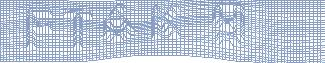6: (101, 3, 134, 43)
F: (24, 8, 54, 53)
K: (150, 3, 182, 41)
T: (62, 8, 93, 53)
g: (212, 1, 246, 48)
